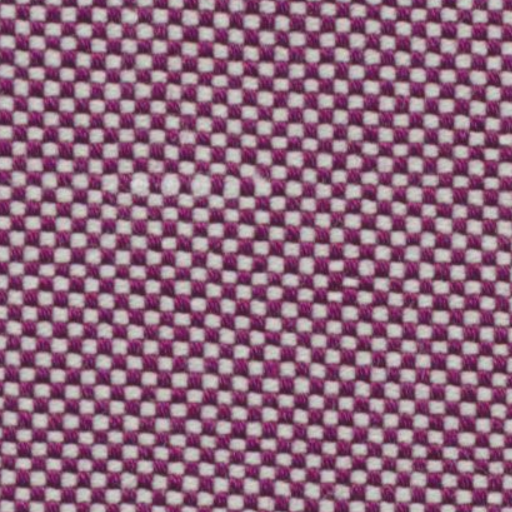DaiSha: (72, 156, 310, 206)
